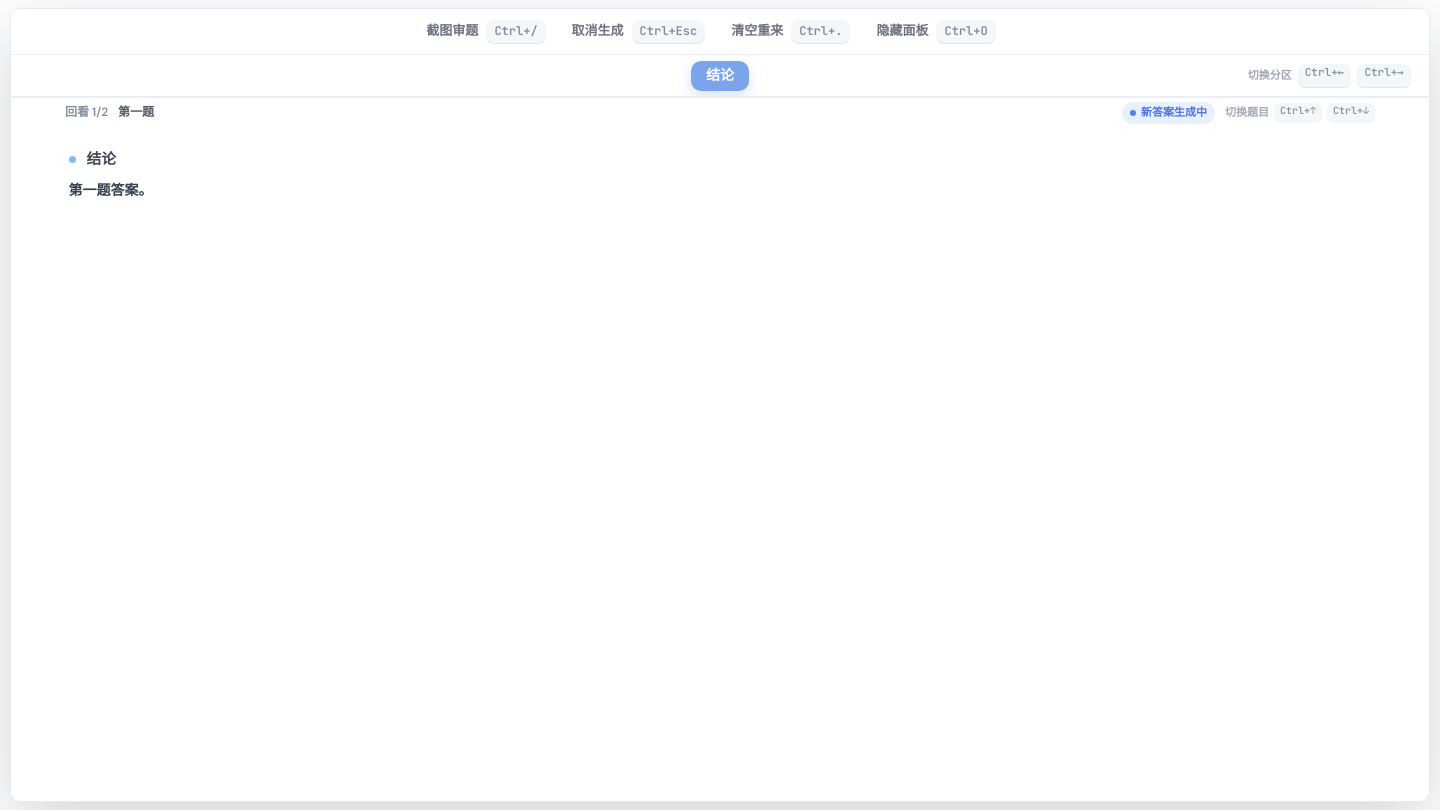
InterviewOverlay › returns to the live question after submitting a screen review from history
The image size is (1440, 810).
expect the text "第一题答案。" is shown: met, box left=69, top=181, right=153, bottom=199
expect the text "回看 1/2" is shown: met, box left=65, top=103, right=108, bottom=122
Click the button "截图审题 Ctrl+/".
click(486, 32)  # box left=426, top=20, right=546, bottom=44
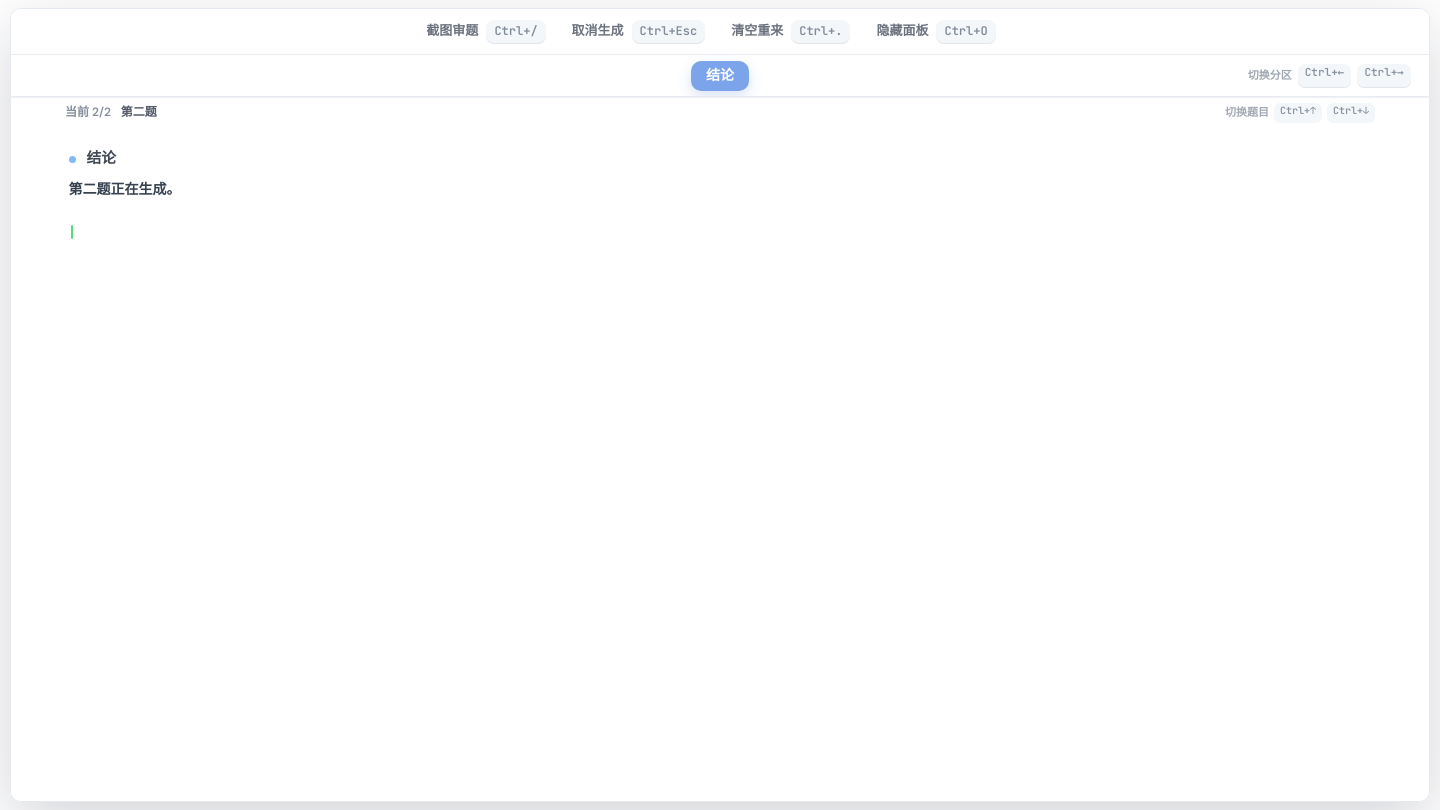
expect the text "第二题正在生成。" is shown: met, box left=69, top=180, right=181, bottom=198
expect the text "当前 2/2" is shown: met, box left=65, top=103, right=111, bottom=122
expect the text "第一题答案" is gone: met
